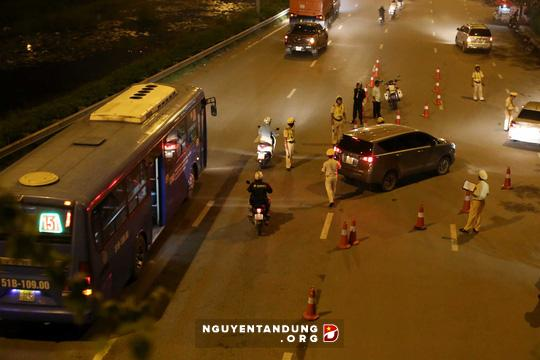police: (282, 116, 298, 172)
